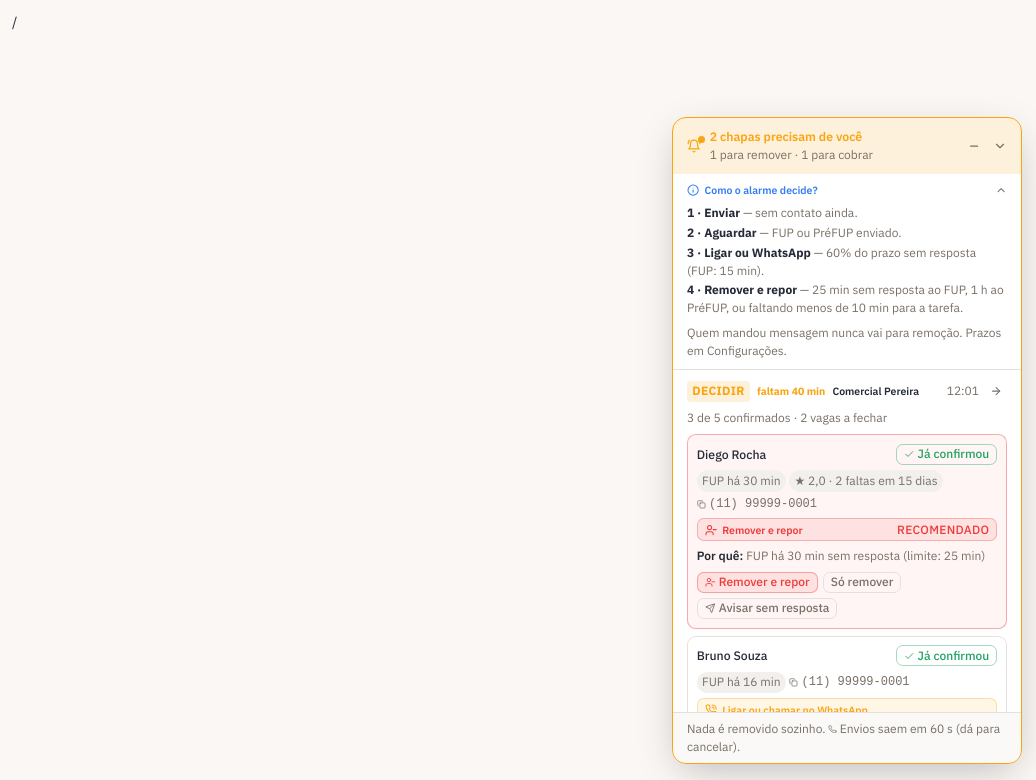
PainelDeAlarme › 'Remover e repor' remove a chapa, oferece desfazer e abre o BID na tarefa
Click the button "Remover e repor" at (757, 582), box x1=697 y1=572 x2=818 y2=593
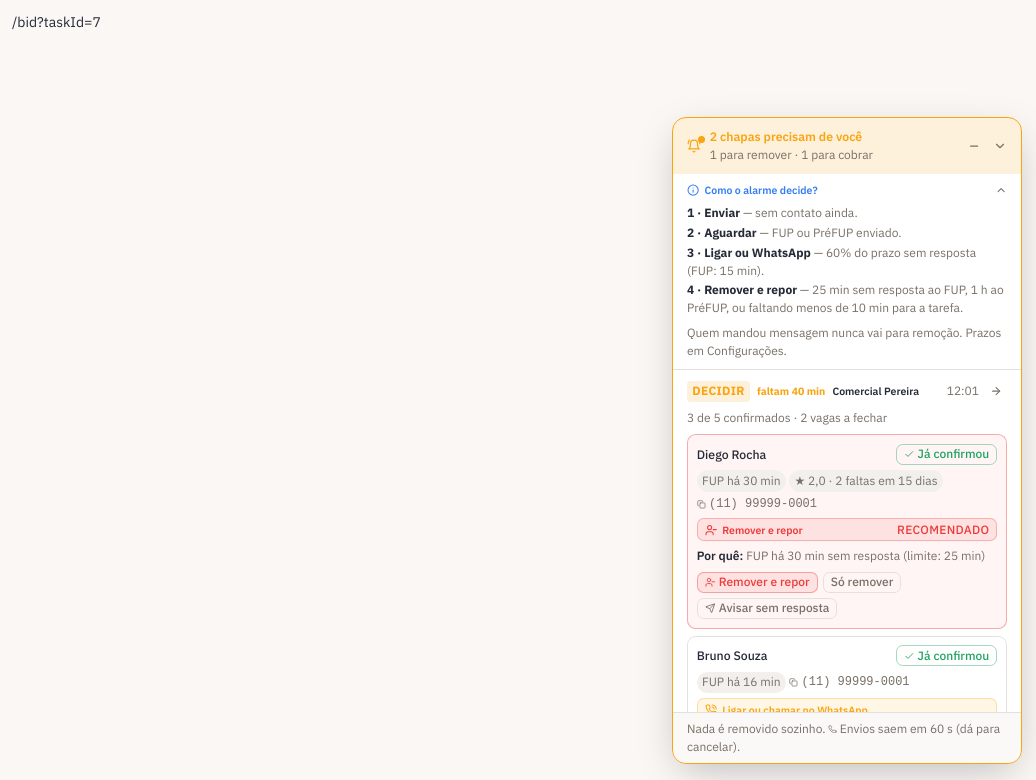
Now the text with test id "local" reads "/bid?taskId=7", box x1=12 y1=13 x2=101 y2=31
